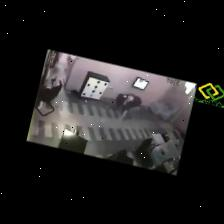person: (115, 94, 140, 119)
